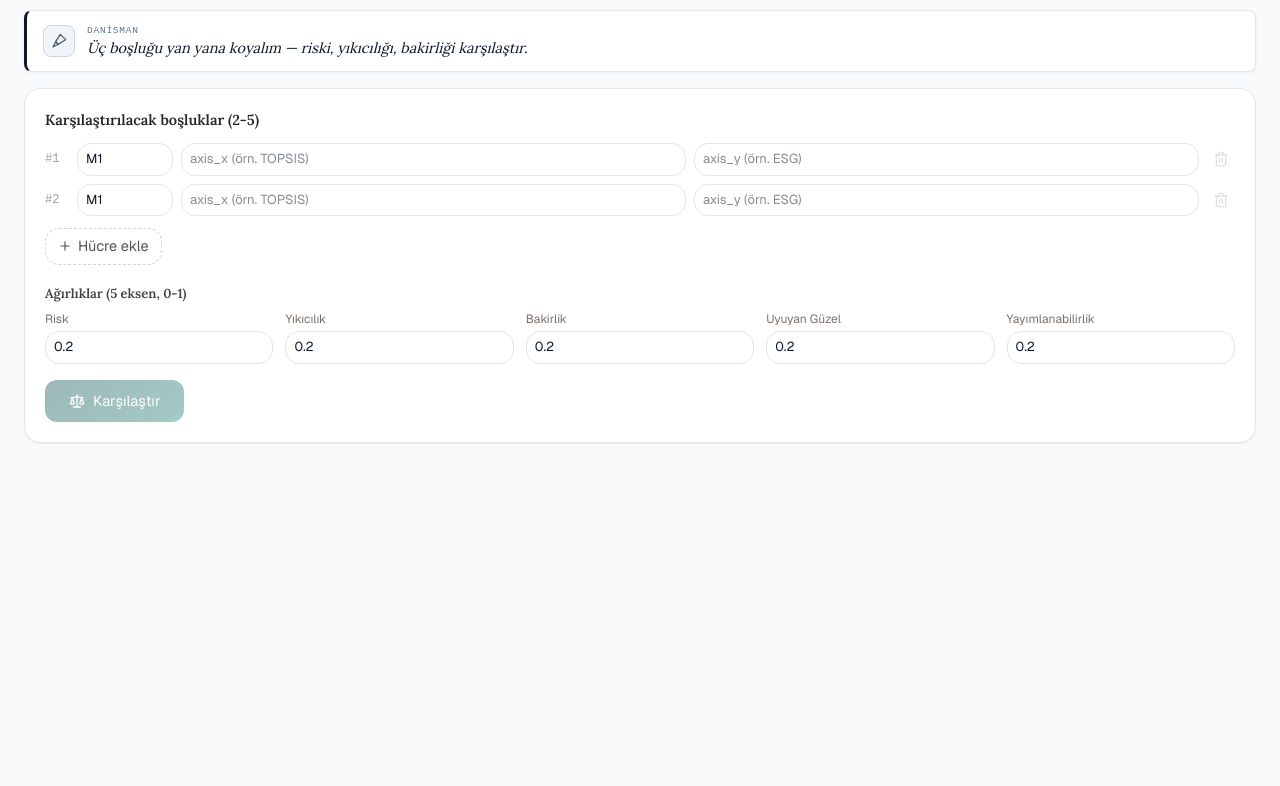
Test: GapComparisonPage › axes dolu → POST /compare + 2 kart + LLM oneri render
Type "TOPSIS" into the 1st field with placeholder "axis_x (örn. TOPSIS)" at (434, 159), box x1=181 y1=143 x2=686 y2=176
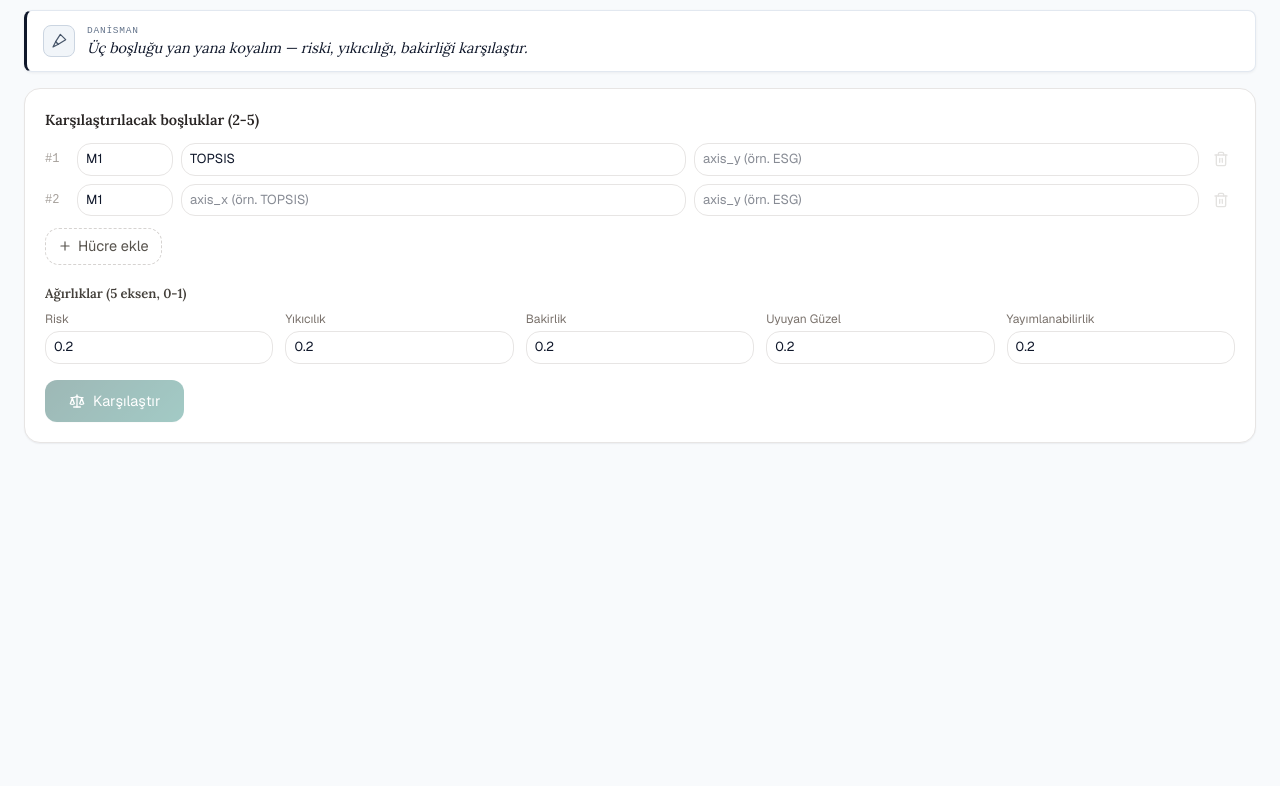
Type "ESG" into the 1st field with placeholder "axis_y (örn. ESG)" at (946, 159), box x1=694 y1=143 x2=1199 y2=176
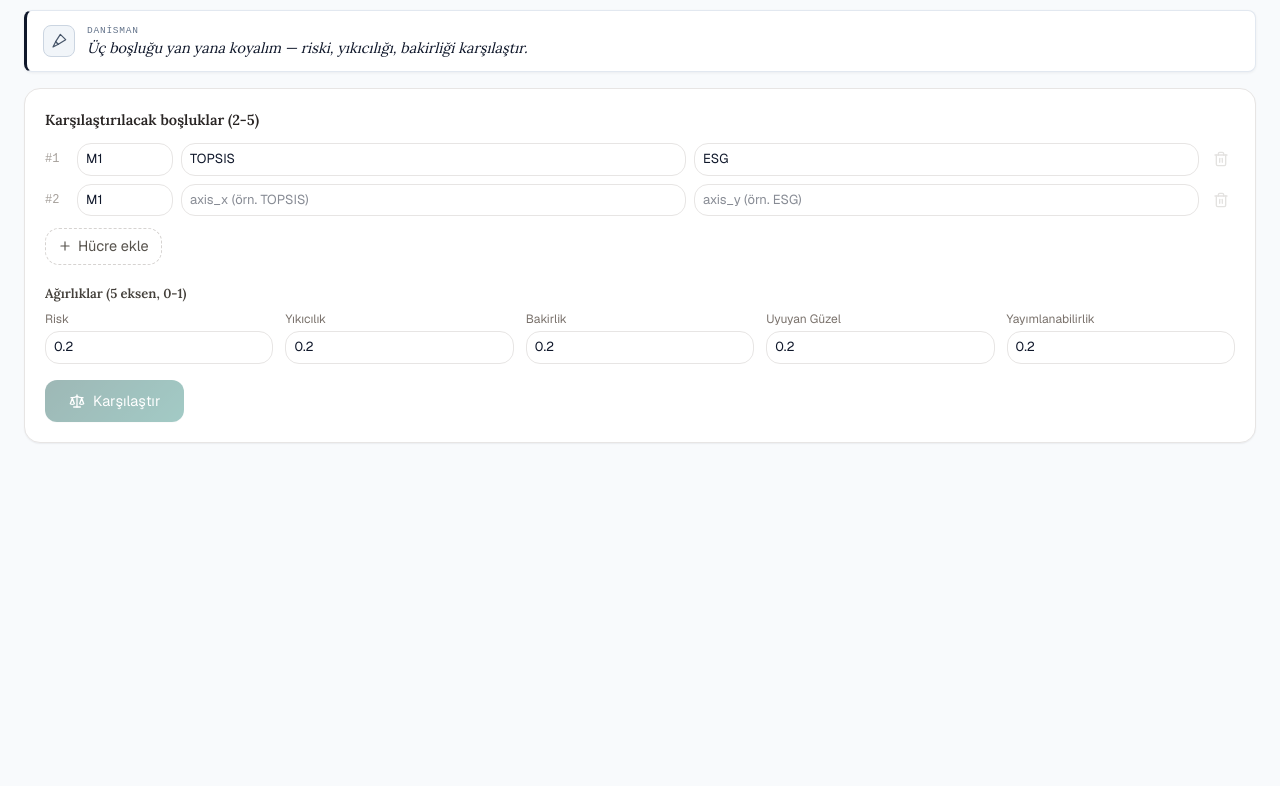
Type "AHP" into the field with placeholder "axis_x (örn. TOPSIS)" at (434, 200), box x1=181 y1=184 x2=686 y2=216
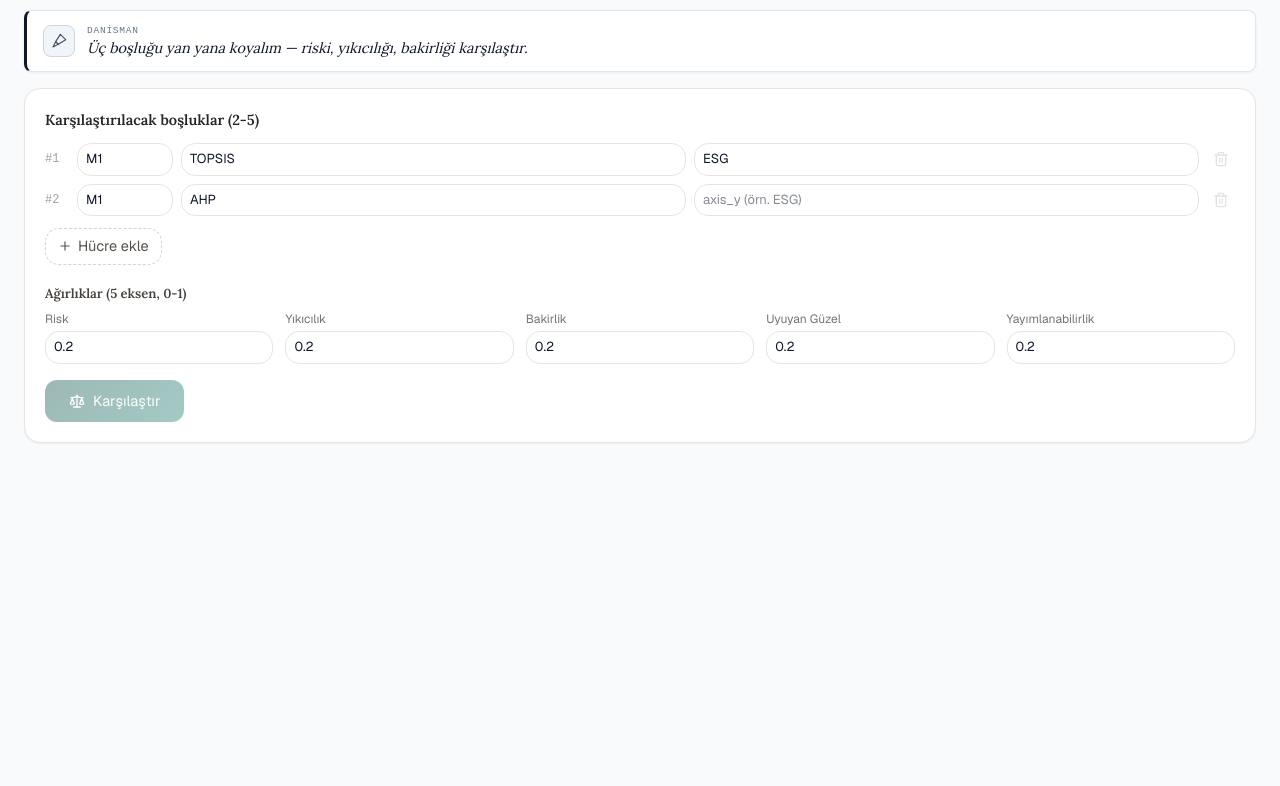
Type "Sustainability" into the field with placeholder "axis_y (örn. ESG)" at (946, 200), box x1=694 y1=184 x2=1199 y2=216
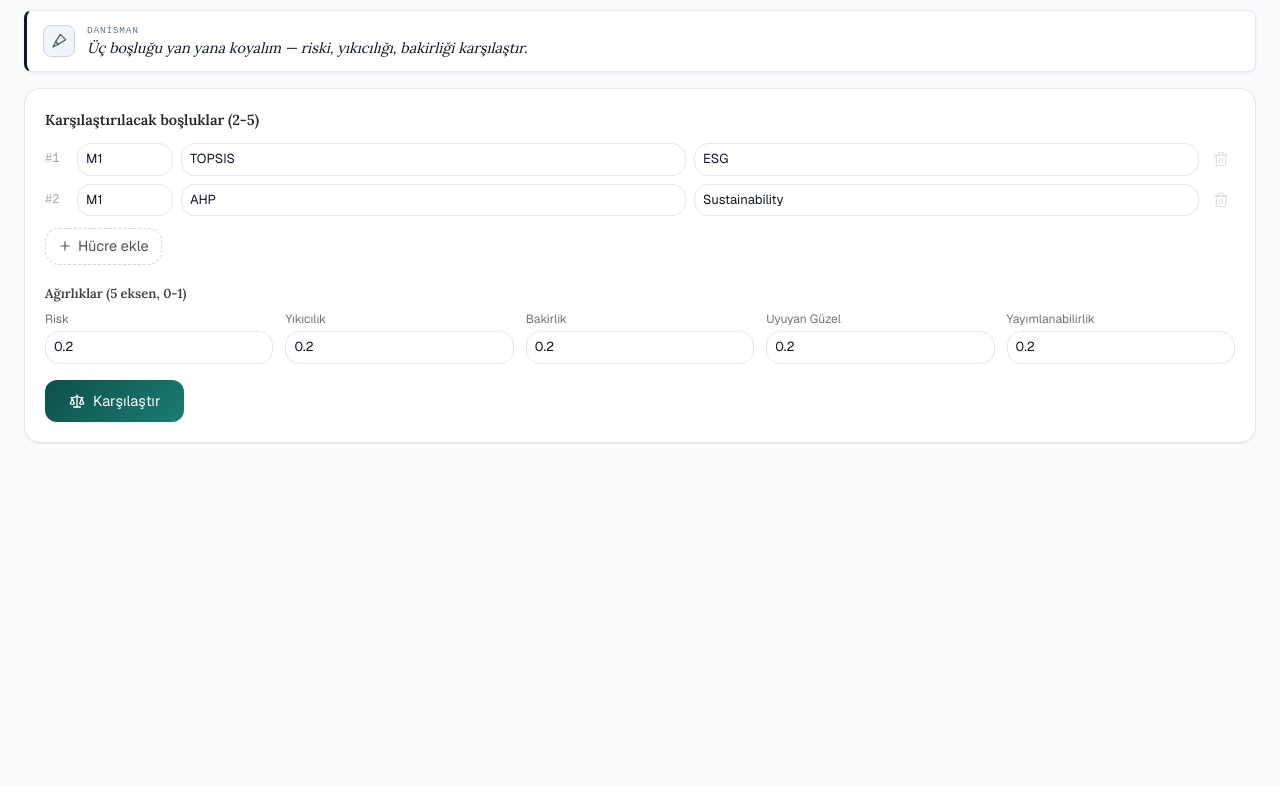
Click the button "Karşılaştır" at (115, 401), box x1=45 y1=380 x2=184 y2=422
(page scrolled)
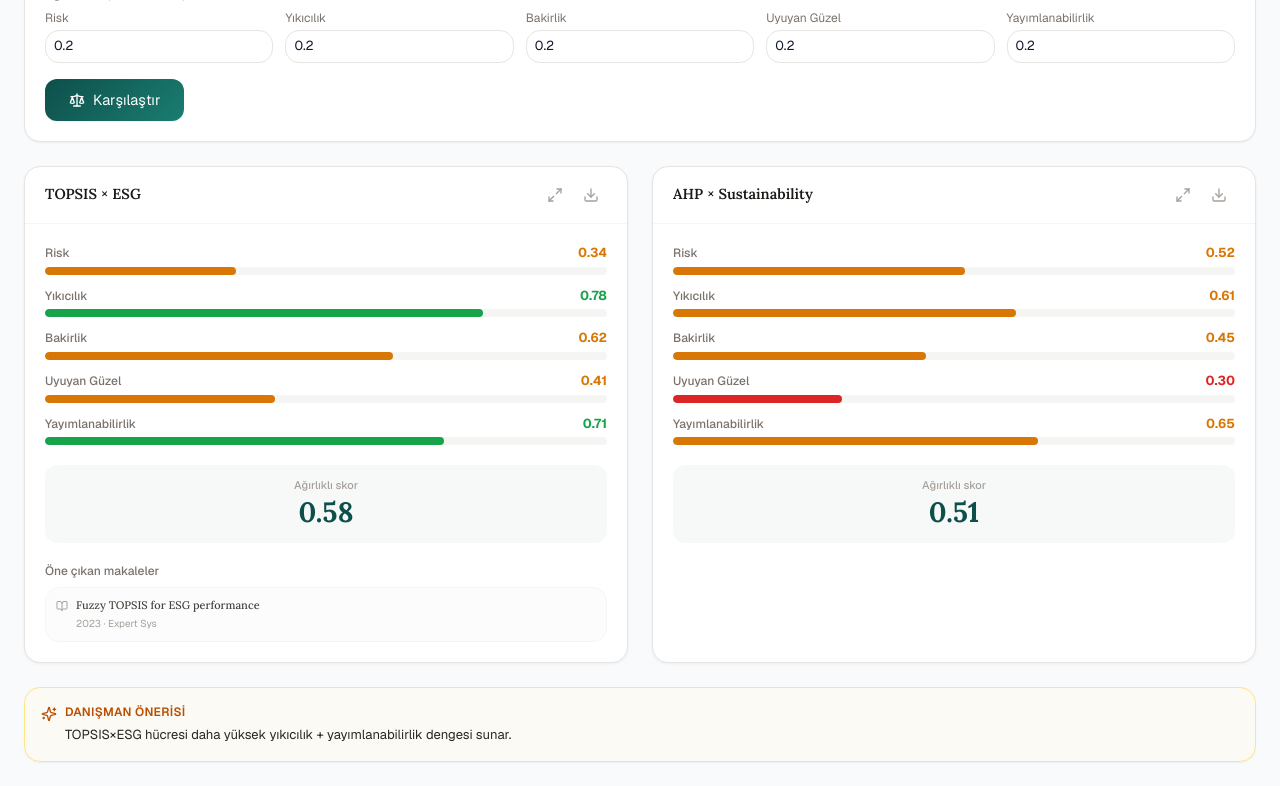
Check: the heading "TOPSIS × ESG" is shown, box x1=45 y1=183 x2=141 y2=205
Check: the heading "AHP × Sustainability" is shown, box x1=673 y1=183 x2=813 y2=205
Check: the text "Danışman önerisi" is shown, box x1=65 y1=704 x2=186 y2=720
